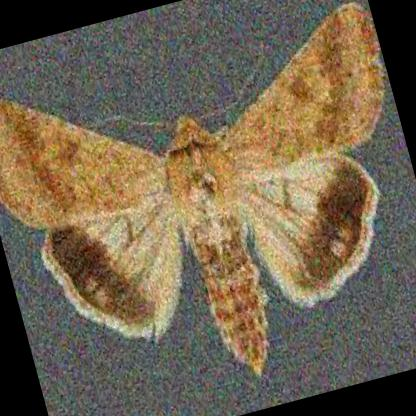helicoverpa: (0, 0, 379, 365)
